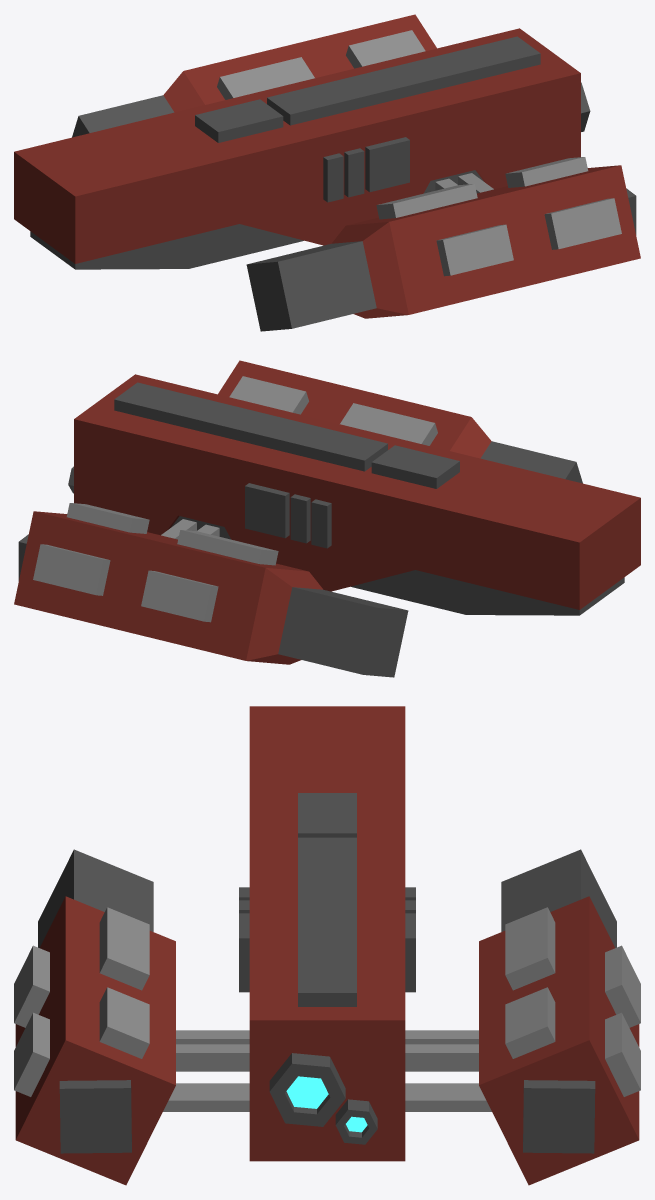
The model's file is fly_enemy.fbx.
The picture shows the model from 3 angles, top to bottom: view 1: azimuth 30°, elevation 25°; view 2: azimuth 150°, elevation 25°; view 3: azimuth 270°, elevation 25°; orthographic projection. The views are drawn at different scales.
Parts seen in each view (by area): view 1: Cube, Cube.008, Cube.002, Cube.001, Cube.003, Cube.005, Cube.007, Cube.006; view 2: Cube, Cube.008, Cube.002, Cube.001, Cube.003, Cube.005, Cube.007, Cube.006; view 3: Cube.008, Cube, Cube.002, Cube.011, Cylinder, Cube.010, Cube.003, Cube.009, Cube.005, Cylinder.001.
Boxes of the visible parts, <box> form: Cube: <box>14,28,580,263</box>; Cube.008: <box>72,14,640,331</box>; Cube.002: <box>267,36,540,125</box>; Cube.001: <box>30,224,303,269</box>; Cube.003: <box>195,99,283,142</box>; Cube.005: <box>365,137,409,192</box>; Cube.007: <box>323,153,343,202</box>; Cube.006: <box>344,148,364,197</box>; Cube: <box>74,374,640,609</box>; Cube.008: <box>14,360,582,677</box>; Cube.002: <box>114,382,387,471</box>; Cube.001: <box>351,570,624,615</box>; Cube.003: <box>371,445,459,488</box>; Cube.005: <box>245,483,289,538</box>; Cube.007: <box>311,499,331,548</box>; Cube.006: <box>290,494,310,543</box>; Cube.008: <box>14,849,640,1185</box>; Cube: <box>249,706,405,1161</box>; Cube.002: <box>298,837,356,1006</box>; Cube.011: <box>163,1083,491,1111</box>; Cylinder: <box>269,1053,345,1126</box>; Cube.010: <box>176,1044,478,1071</box>; Cube.003: <box>298,793,356,837</box>; Cube.009: <box>176,1030,478,1044</box>; Cube.005: <box>239,913,415,992</box>; Cylinder.001: <box>335,1099,377,1144</box>.
Bounding box in the file's own units: 1561 × 447 × 1275.
